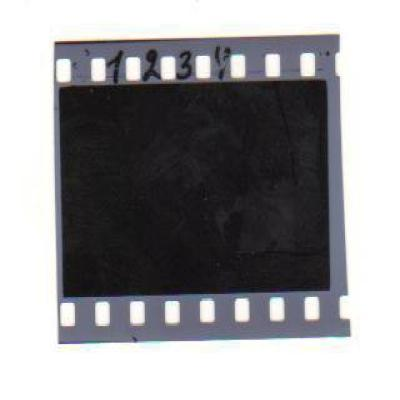photos_negatives: (62, 84, 334, 292)
